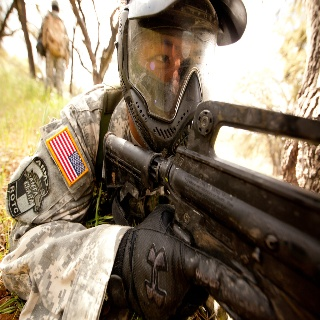rifle: (101, 99, 320, 320)
